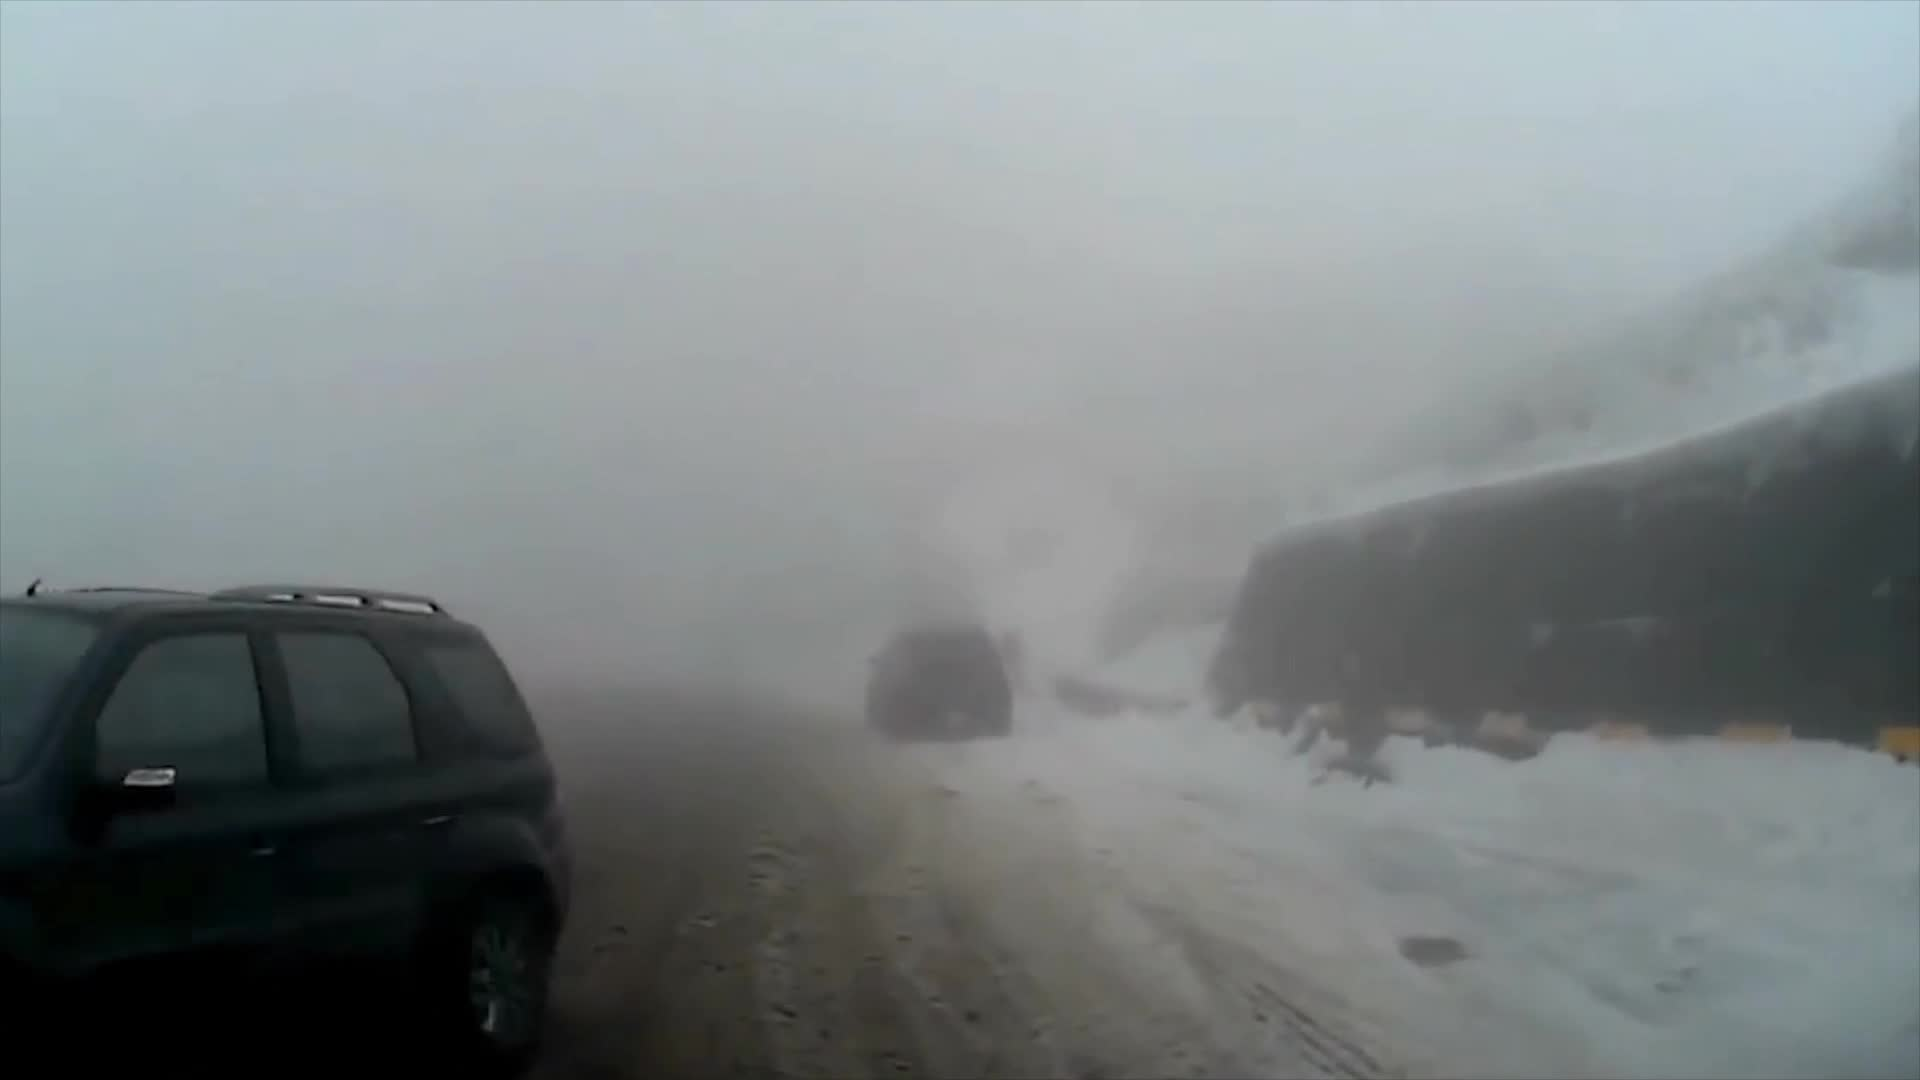vehicle: (0, 580, 574, 1079), (861, 620, 1011, 748)
